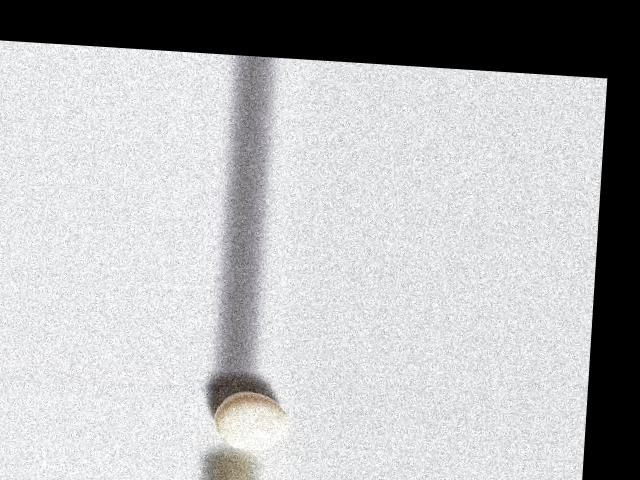egg: (211, 389, 289, 452)
